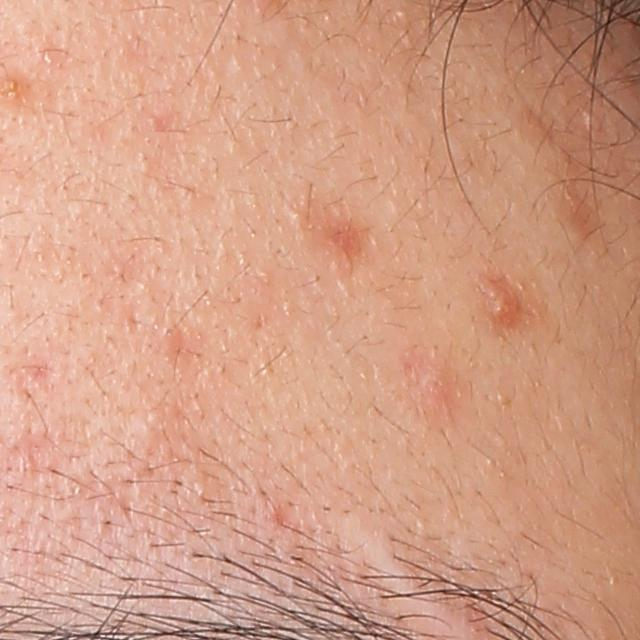comedo: (288, 208, 305, 227), (41, 47, 57, 66)
